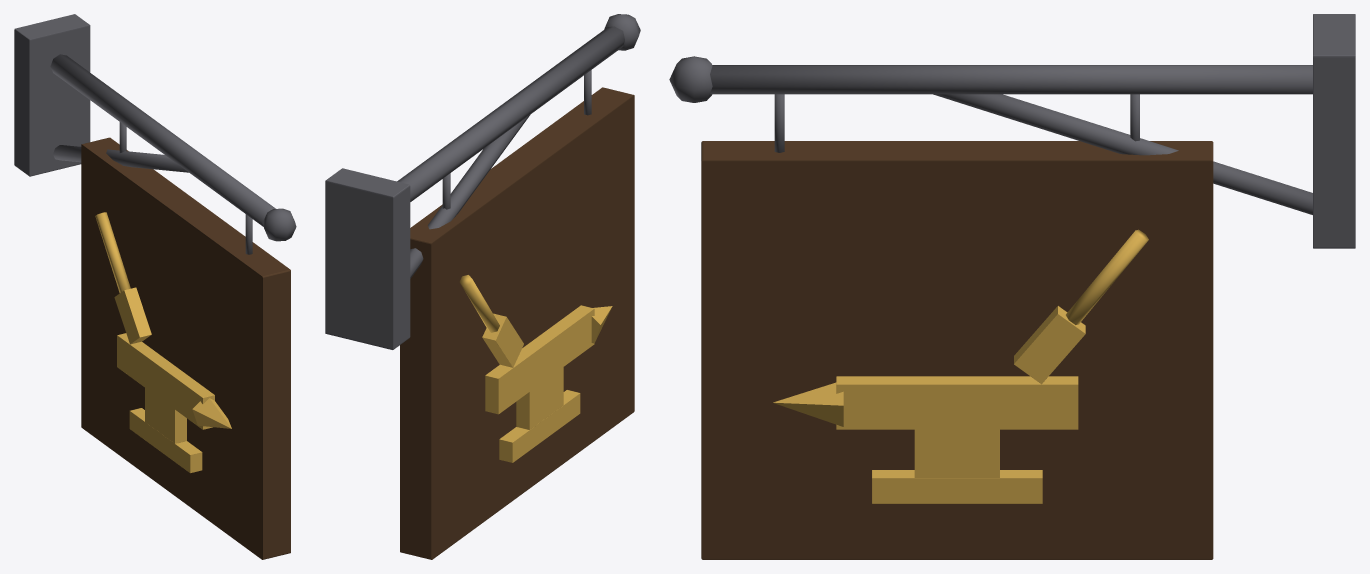
The model's file is zunftschild_amboss.glb.
3 views of the same model, side by side, from view 1: azimuth 30°, elevation 25°; view 2: azimuth 150°, elevation 25°; view 3: azimuth 270°, elevation 25° (orthographic). The views are drawn at different scales.
Parts seen in each view (by area): view 1: Cube; view 2: Cube; view 3: Cube.
Boxes of the visible parts, <box> form: Cube: <box>14,14,296,559</box>; Cube: <box>325,14,640,559</box>; Cube: <box>669,14,1355,559</box>.
Size of the model in its own units: 0.1566 by 0.8 by 0.965.
